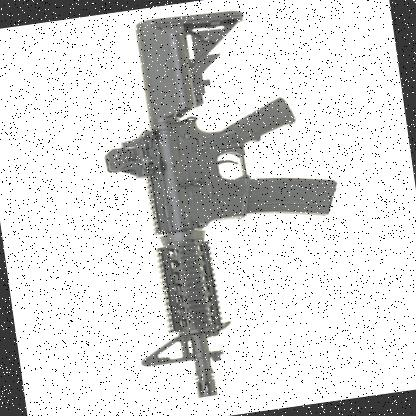rifle: (93, 0, 372, 402)
